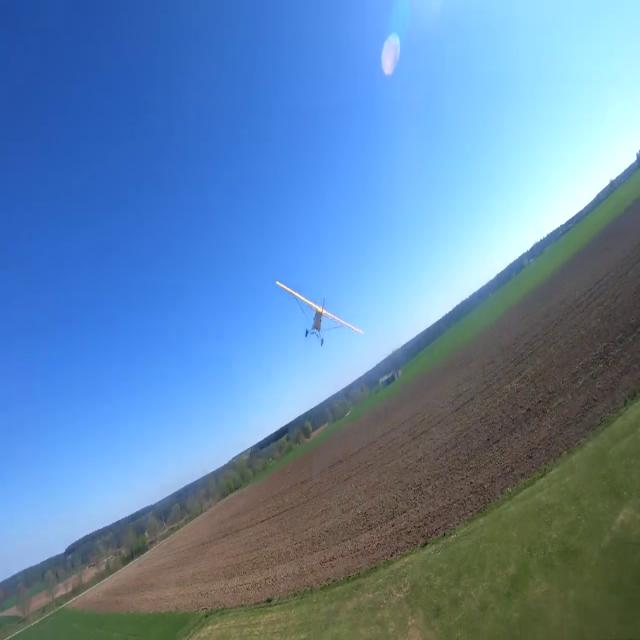iha: (307, 311, 331, 317)
